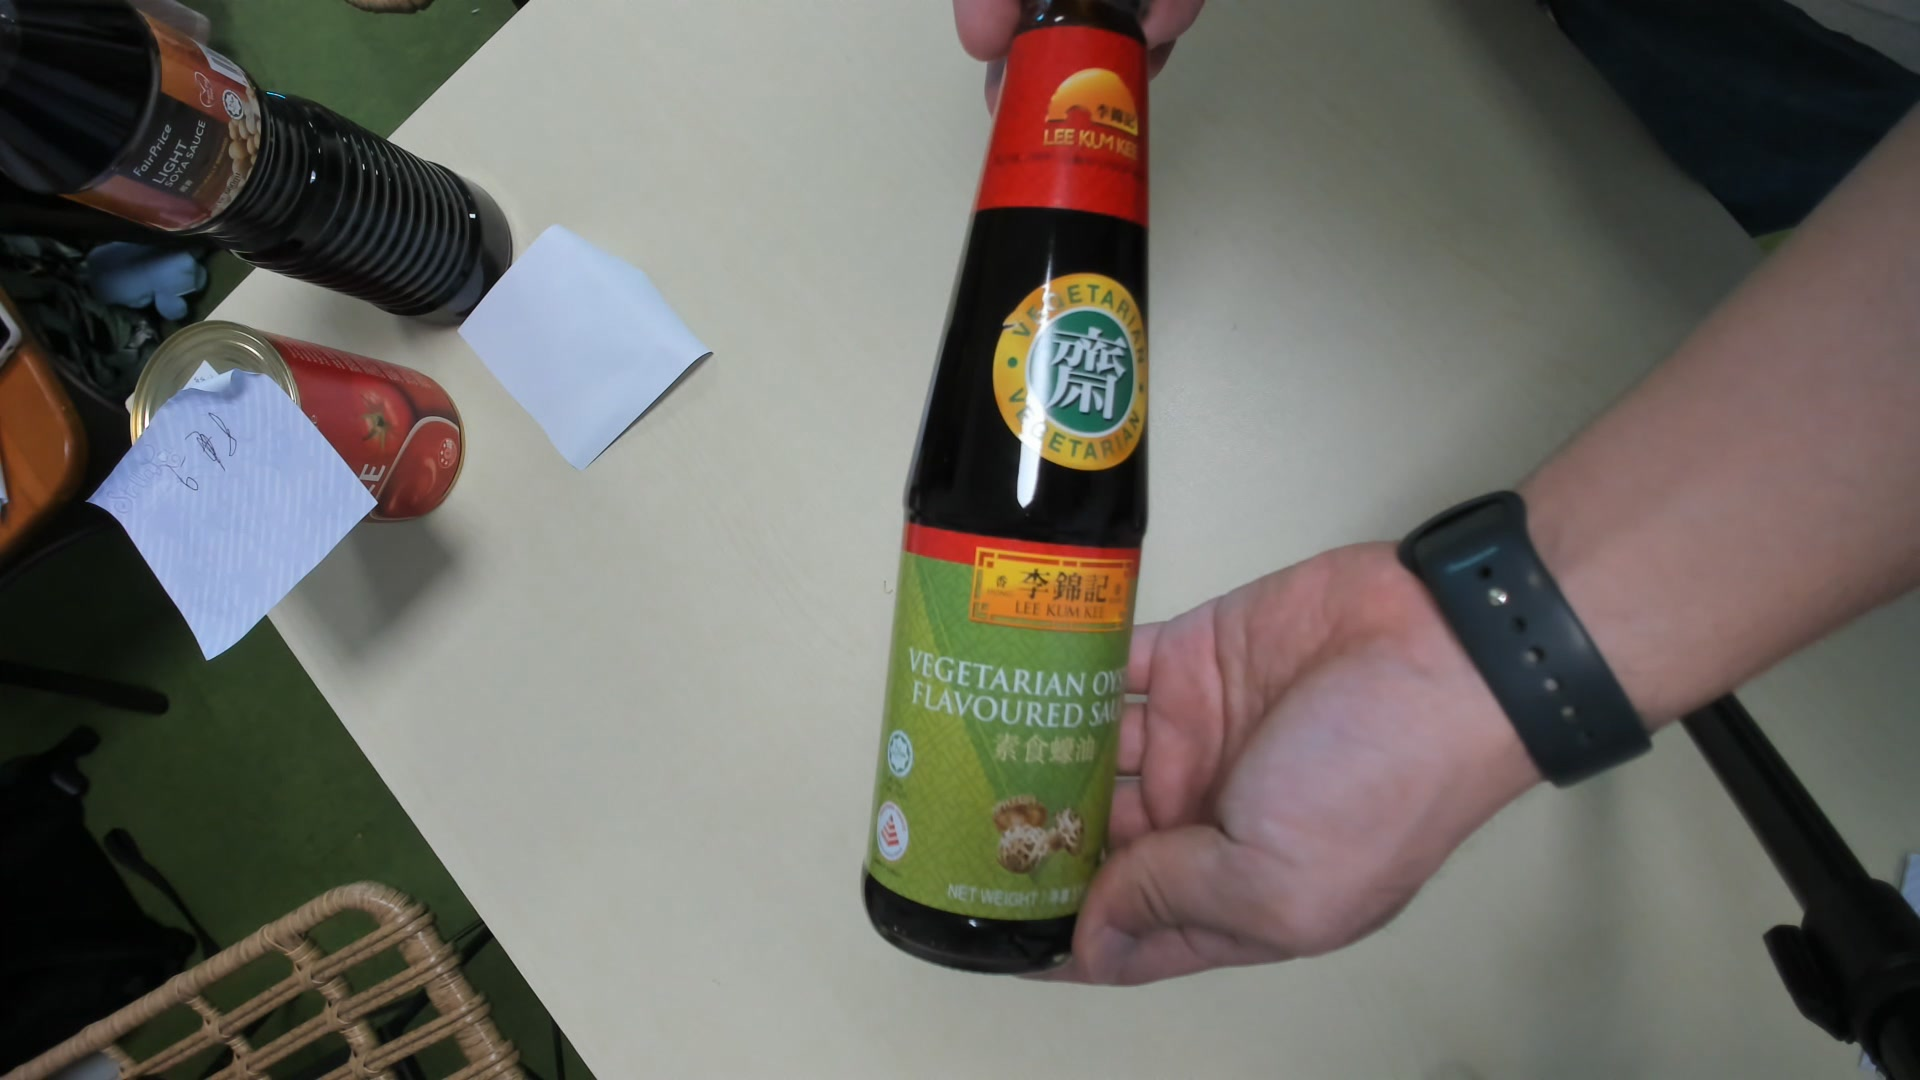OtherSauceDressingSoupbasePaste_500-599g_Halal_Healthy: (861, 7, 1149, 965)
